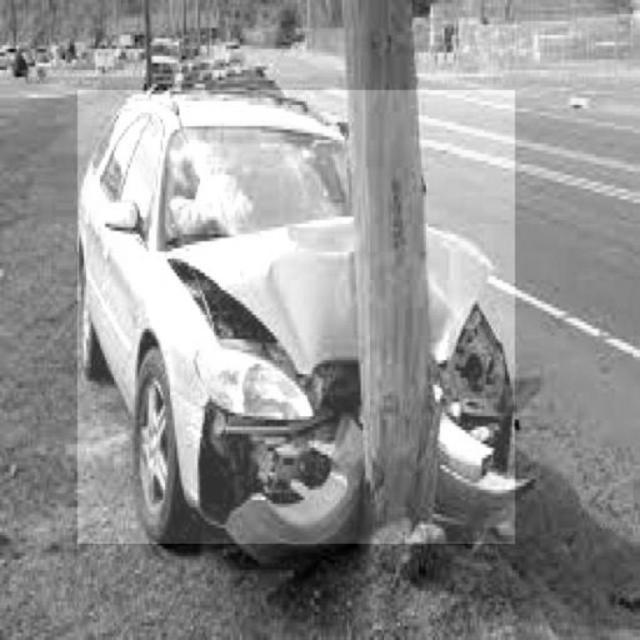accident: (78, 90, 516, 544)
